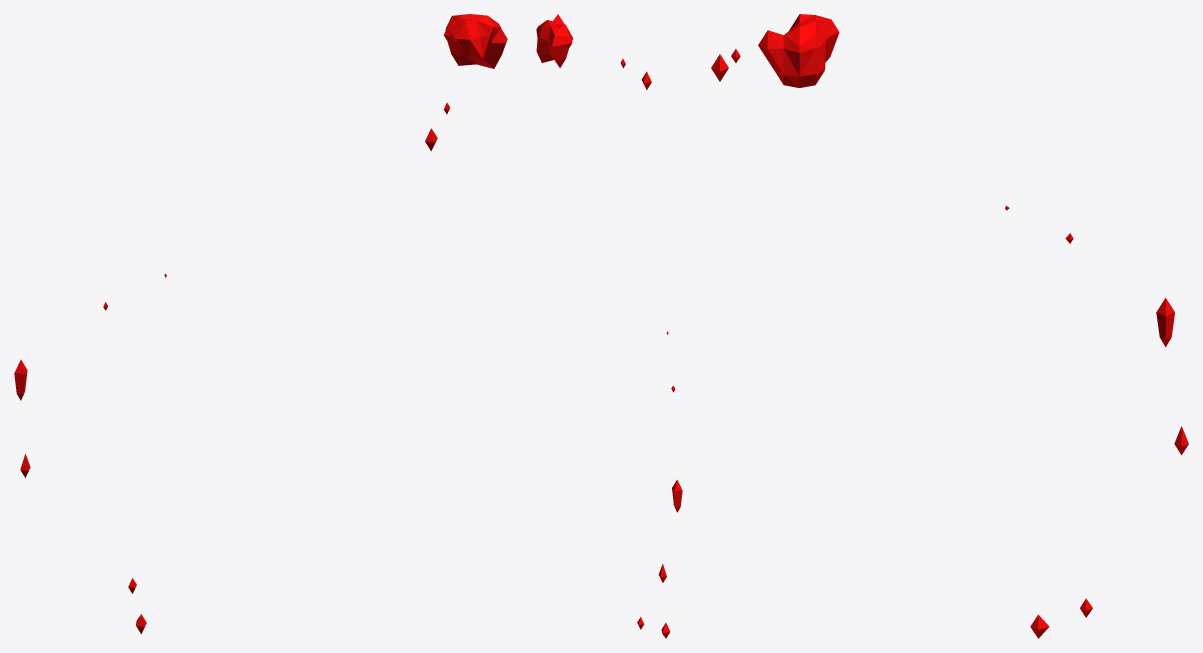
Rendered from adhE_coarse.dae.
The picture shows the model from 3 angles, left to right: view 1: azimuth 30°, elevation 25°; view 2: azimuth 150°, elevation 25°; view 3: azimuth 270°, elevation 25°; orthographic projection. The views are drawn at different scales.
Parts seen in each view (by area): view 1: adhE; view 2: adhE; view 3: adhE.
Boxes of the visible parts, x1=… form: adhE: x1=14, y1=14, x2=507, y2=634; adhE: x1=536, y1=14, x2=682, y2=638; adhE: x1=711, y1=14, x2=1188, y2=638.
Size of the model in its own units: 426 by 771 by 442.
